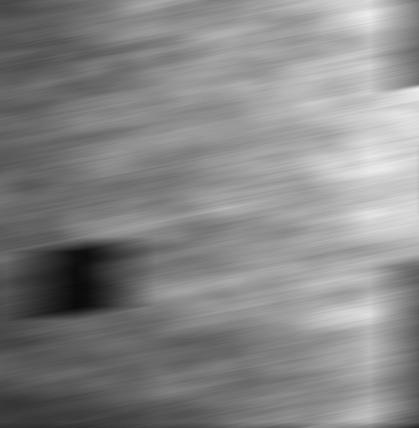Airbag: (0, 0, 418, 428), (399, 2, 419, 274)
